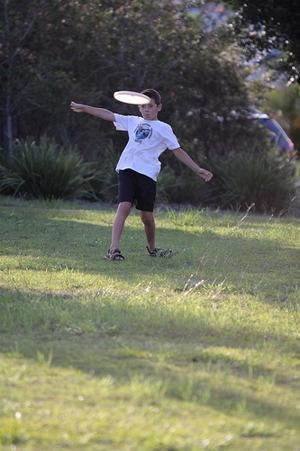person: (70, 86, 214, 260)
